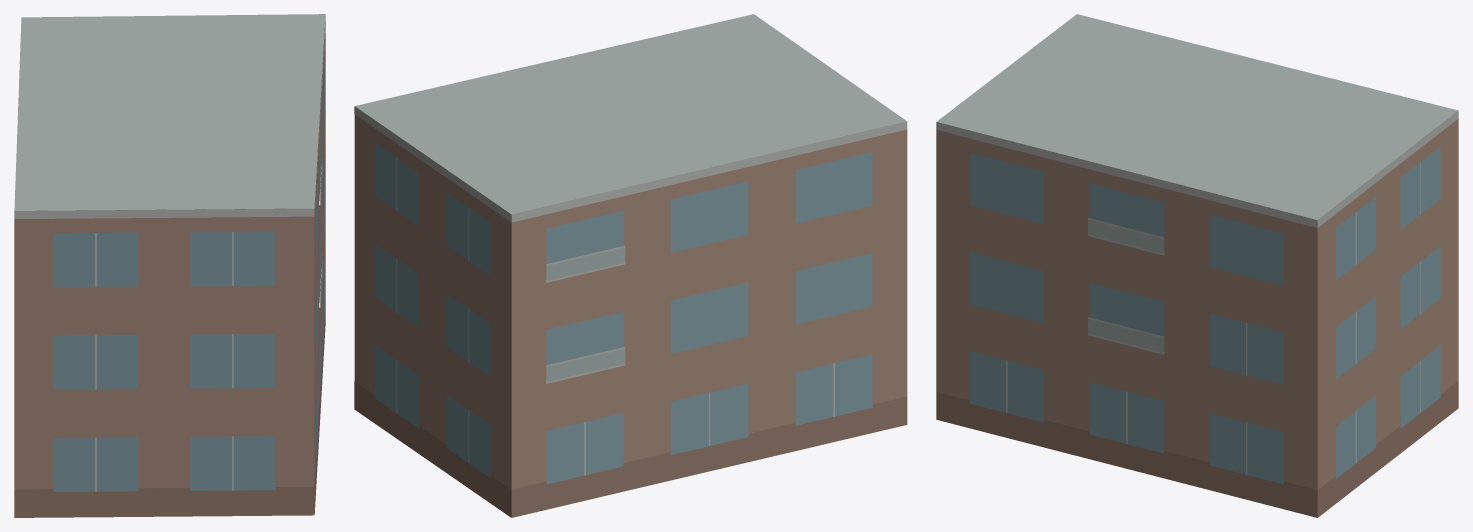
Rendered from survey-upis-32751253.glb.
3 renders of one model, left to right at view 1: azimuth 30°, elevation 25°; view 2: azimuth 150°, elevation 25°; view 3: azimuth 270°, elevation 25°, orthographic. The views are drawn at different scales.
Visible parts, largest first — view 1: survey-upis-32751253.tmp; view 2: survey-upis-32751253.tmp; view 3: survey-upis-32751253.tmp.
Part boxes in pixels (x1,y1,x2,y2): survey-upis-32751253.tmp: (14,14,325,517); survey-upis-32751253.tmp: (354,14,907,517); survey-upis-32751253.tmp: (936,14,1458,517).
Size of the model in its own units: 13.59 by 9.15 by 14.55.
